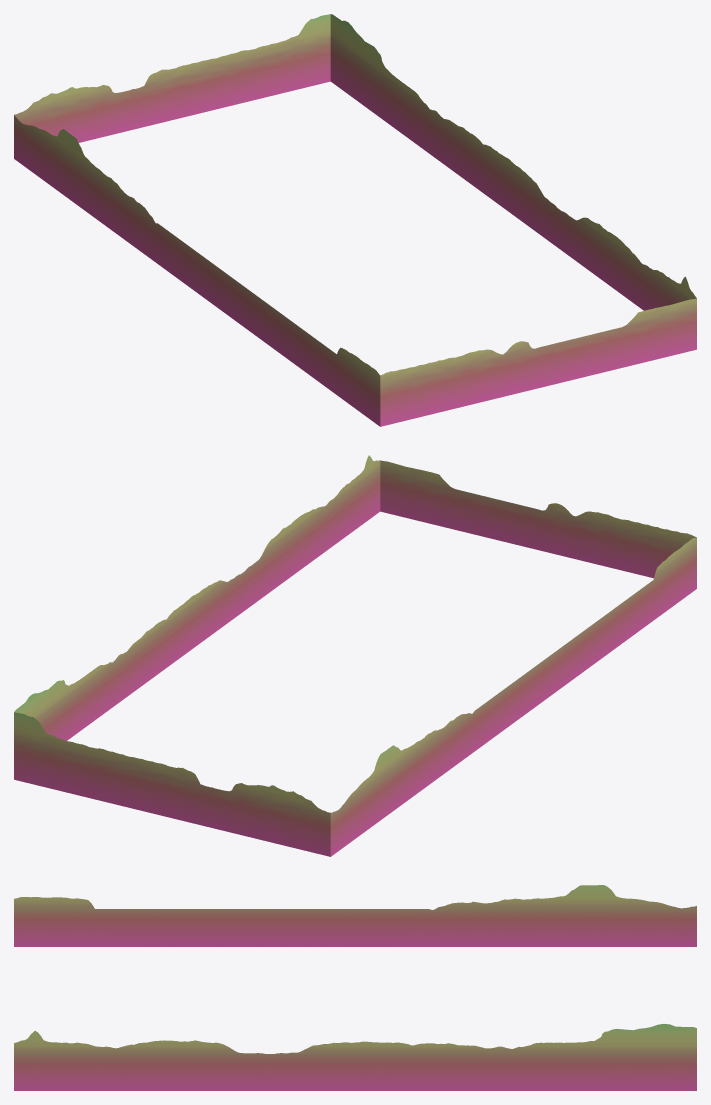
Rendered from terrainmesh-sides.FBX.
3 renders of one model, top to bottom at view 1: azimuth 30°, elevation 25°; view 2: azimuth 150°, elevation 25°; view 3: azimuth 270°, elevation 25°, orthographic. The views are drawn at different scales.
Visible parts, largest first — view 1: terreng002_sides; view 2: terreng002_sides; view 3: terreng002_sides.
Boxes of the visible parts, x1=… form: terreng002_sides: x1=14, y1=14, x2=696, y2=426; terreng002_sides: x1=14, y1=455, x2=696, y2=856; terreng002_sides: x1=14, y1=885, x2=696, y2=1090.
Bounding box in the file's own units: 9.97 × 2.17 × 19.98.
1 material, 1 textured.
